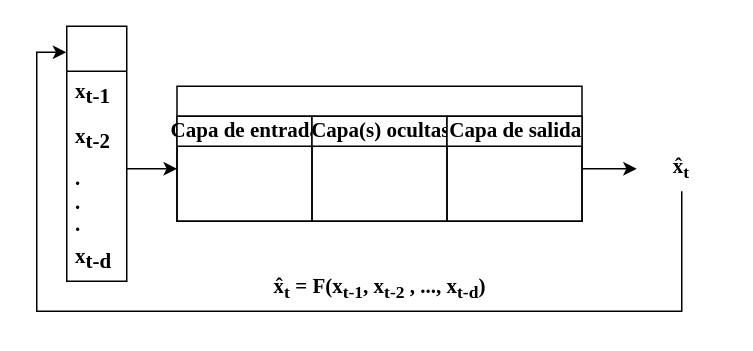
Image size: 753x351. Some labels were removed from this diagram. Here are the shapes that lost their labels. From the top down, the box of each, then its label:
(65, 25, 127, 281): LTR
(176, 85, 582, 221): RNR
